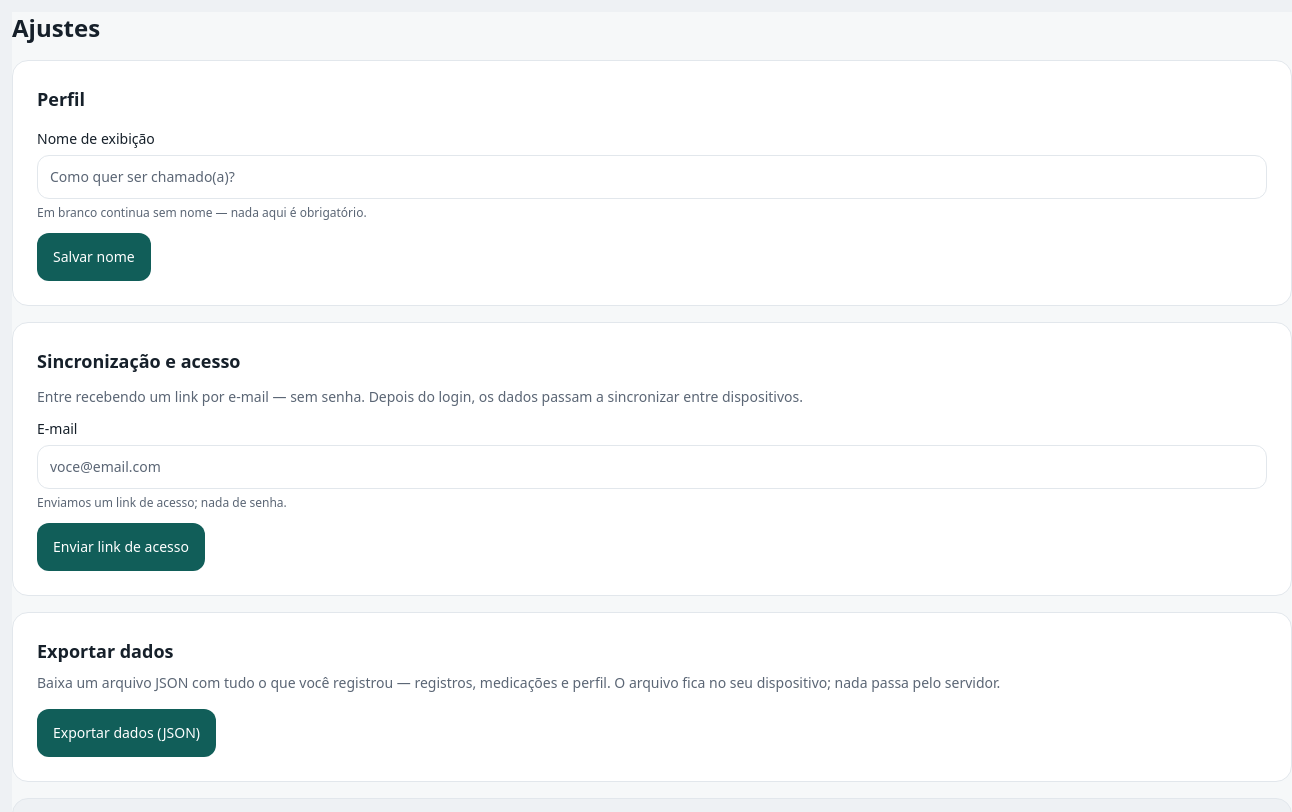
Test case: SettingsPage › mostra o erro do provedor ao falhar o envio
Type "pessoa@example.com" into the field labelled "E-mail" at (652, 467), box left=37, top=445, right=1267, bottom=489
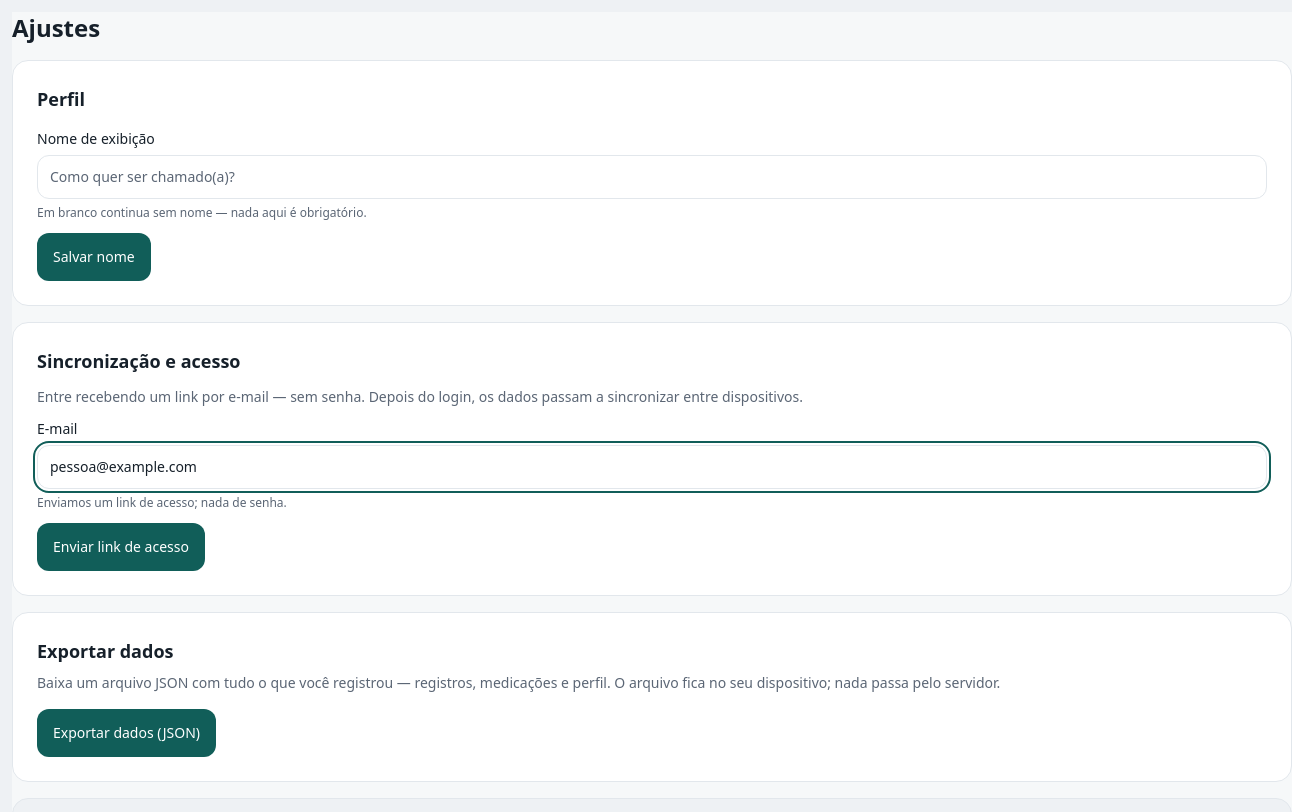
Click the button "Enviar link de acesso" at (121, 547), box left=37, top=523, right=205, bottom=571
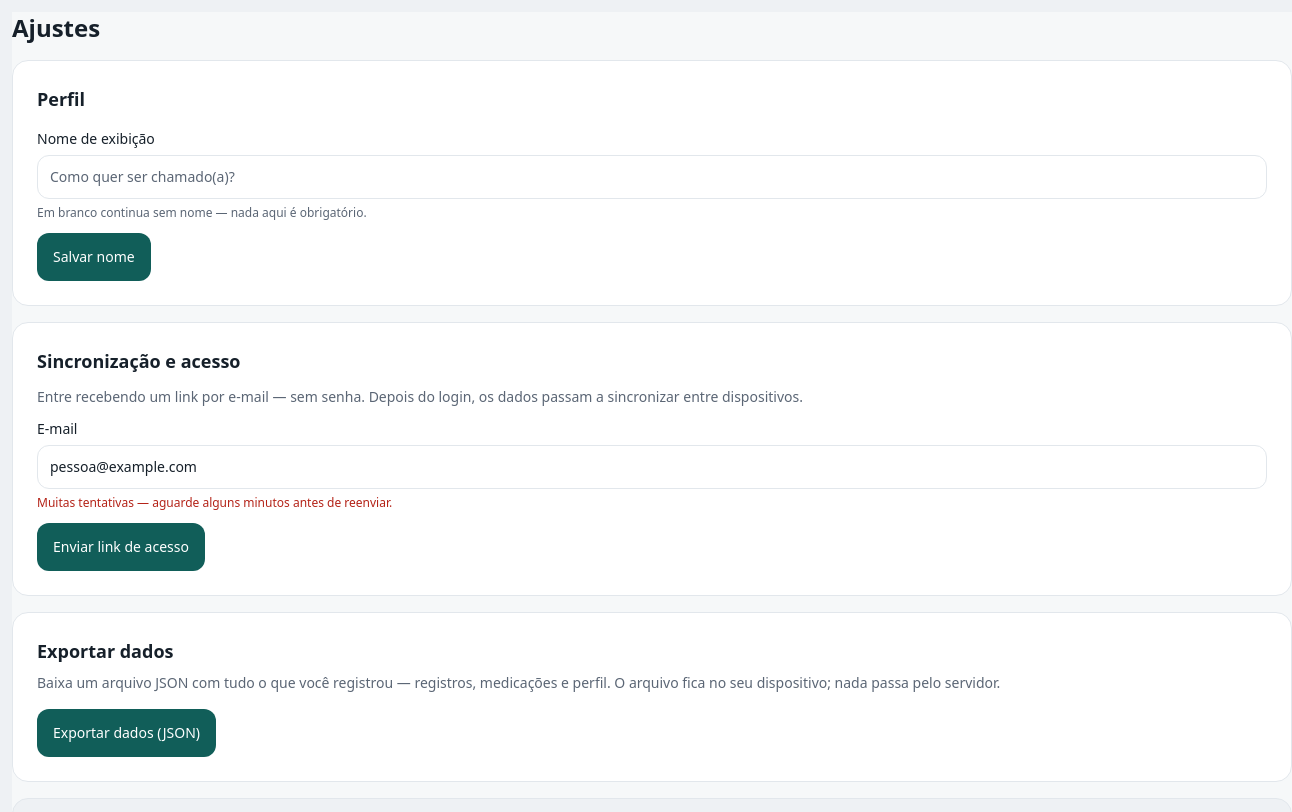
Result: the message shows "aguarde alguns minutos" at left=37, top=494, right=392, bottom=511
